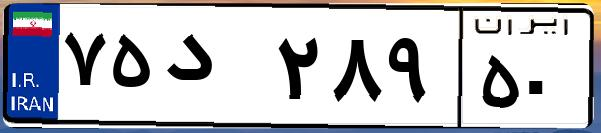0: (525, 38, 570, 115)
2: (270, 28, 330, 110)
5: (475, 38, 525, 113), (110, 28, 158, 98)
7: (57, 26, 110, 100)
8: (330, 28, 385, 110)
9: (385, 28, 445, 110)
د: (158, 20, 270, 120)
